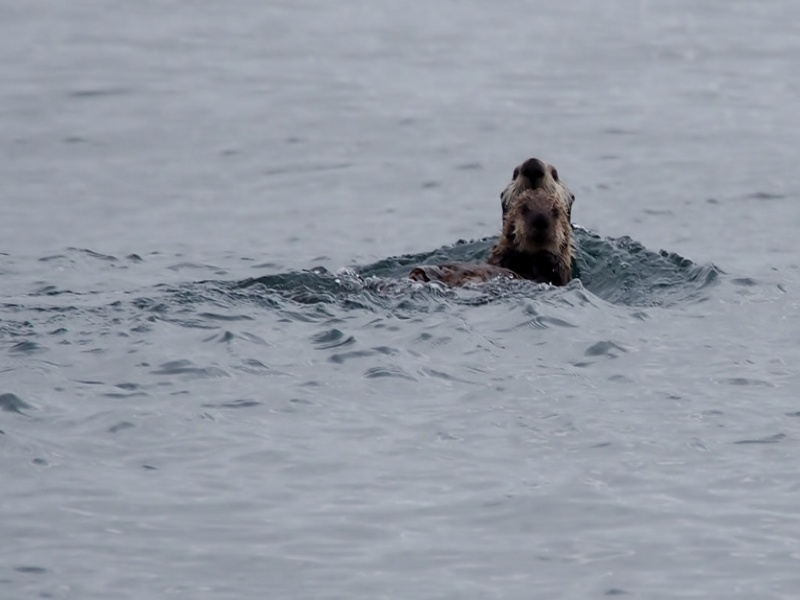minkish: (487, 156, 593, 286)
